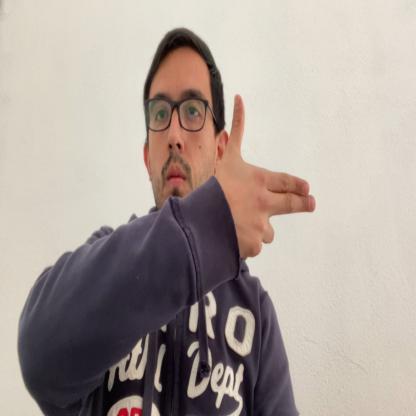H: (218, 93, 317, 258)
